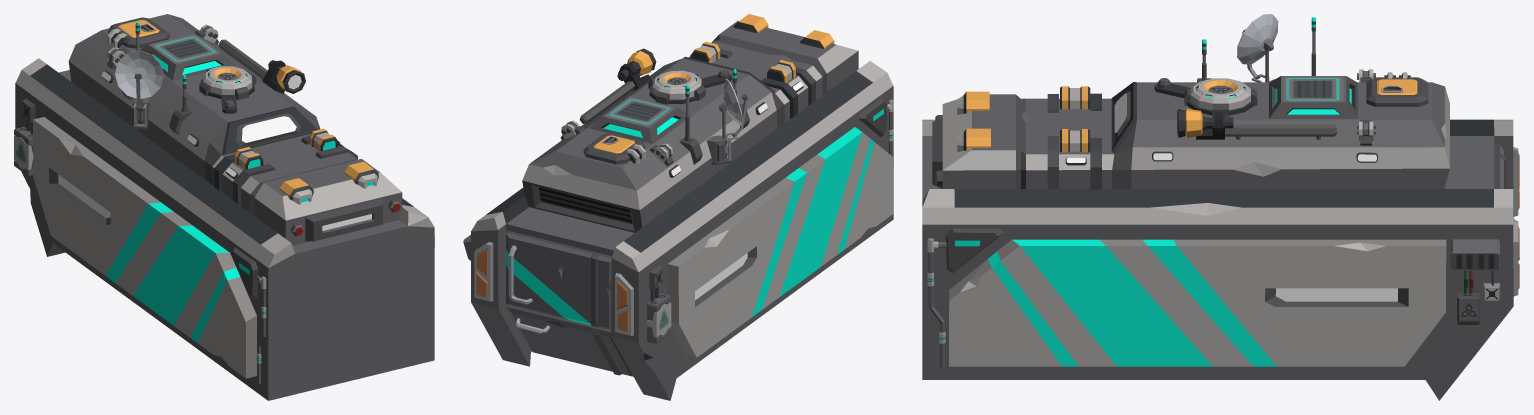
File: SM_Veh_Truck_01_Module_01.fbx
3 views of the same model, side by side, from view 1: azimuth 30°, elevation 25°; view 2: azimuth 150°, elevation 25°; view 3: azimuth 270°, elevation 25° (orthographic). The views are drawn at different scales.
Parts seen in each view (by area): view 1: SM_Veh_Truck_01_Module_01; view 2: SM_Veh_Truck_01_Module_01; view 3: SM_Veh_Truck_01_Module_01.
Boxes of the visible parts, box(x1,y1,x2,y2) form: SM_Veh_Truck_01_Module_01: box(14, 14, 434, 400); SM_Veh_Truck_01_Module_01: box(463, 14, 893, 400); SM_Veh_Truck_01_Module_01: box(922, 14, 1519, 400).
Bounding box in the file's own units: 307 × 405 × 708.
